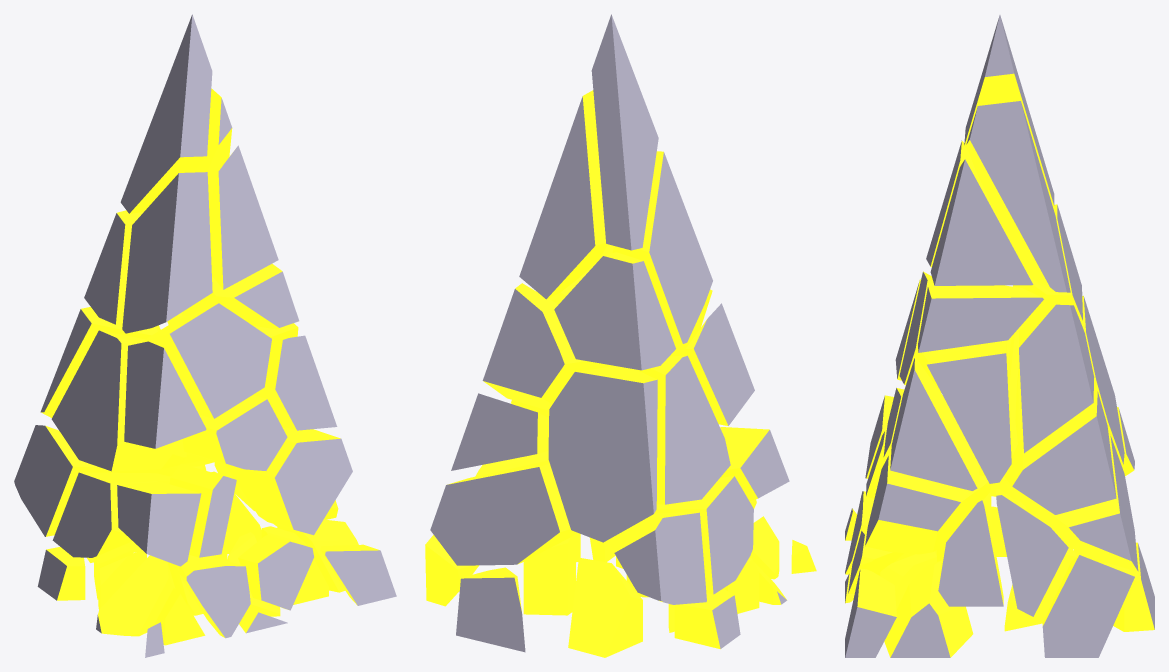
File: BossAttack2.fbx
3 views of the same model, side by side, from view 1: azimuth 30°, elevation 25°; view 2: azimuth 150°, elevation 25°; view 3: azimuth 270°, elevation 25° (orthographic). The views are drawn at different scales.
Visible parts, largest first — view 1: BossAttack2; view 2: BossAttack2; view 3: BossAttack2.
Part boxes in pixels (left/top/right/bottom): BossAttack2: left=14, top=14, right=396, bottom=657; BossAttack2: left=425, top=14, right=816, bottom=657; BossAttack2: left=845, top=15, right=1154, bottom=657.
Size of the model in its own units: 97.03 by 200 by 97.03.
